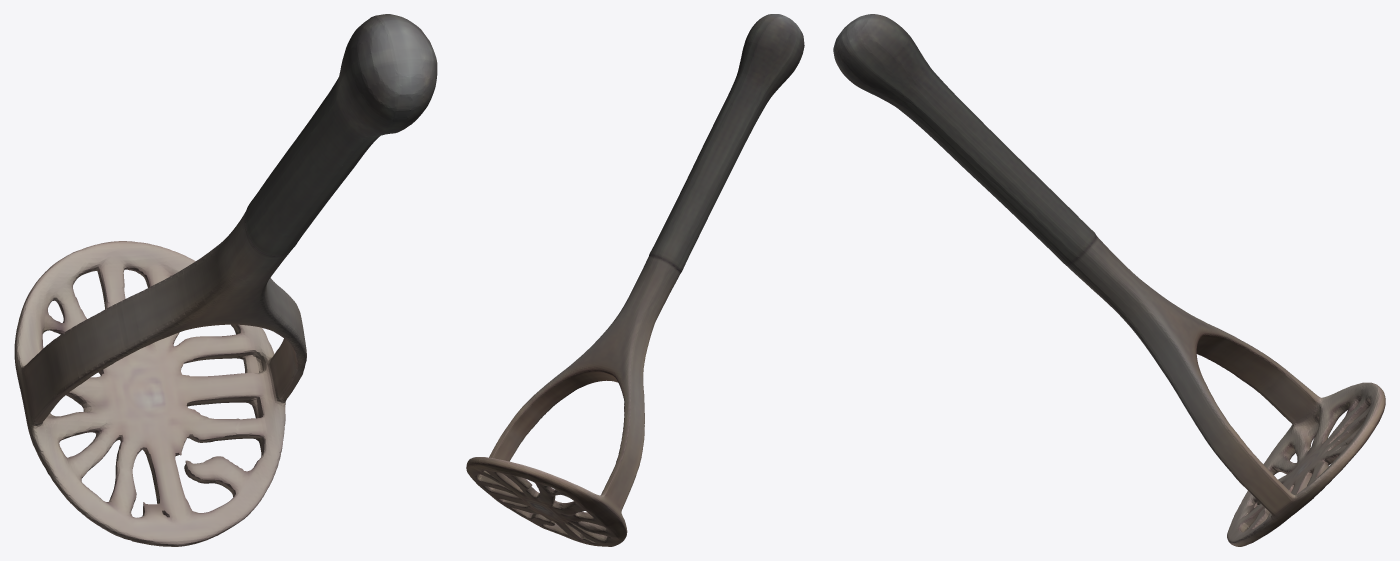
File: frame_0059_source_000059_object.glb
3 views of the same model, side by side, from view 1: azimuth 30°, elevation 25°; view 2: azimuth 150°, elevation 25°; view 3: azimuth 270°, elevation 25° (orthographic). The views are drawn at different scales.
Parts seen in each view (by area): view 1: world; view 2: world; view 3: world.
Part boxes in pixels (box(x1,y1,x2,y2)): world: box(14, 14, 437, 546); world: box(466, 14, 804, 546); world: box(833, 14, 1385, 546).
Bounding box in the file's own units: 0.074 × 0.2108 × 0.2123.
